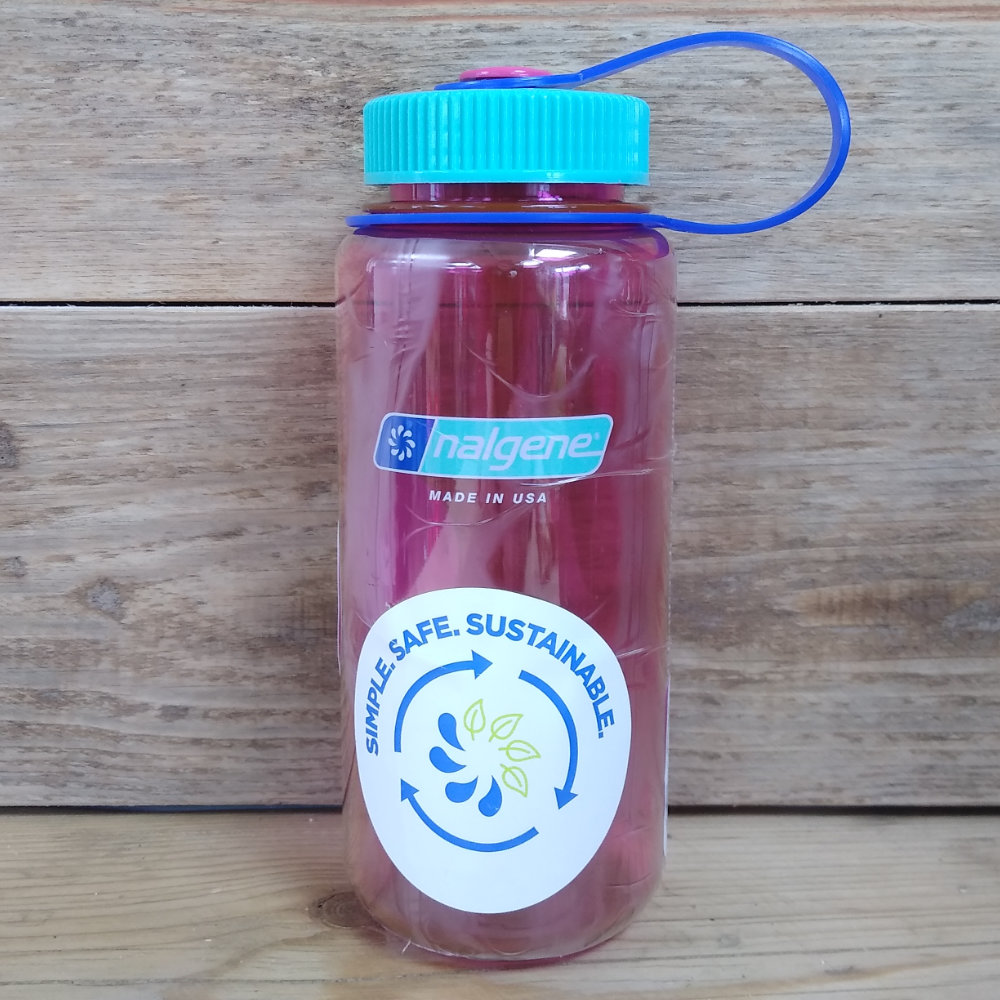bottle: (329, 29, 855, 968)
